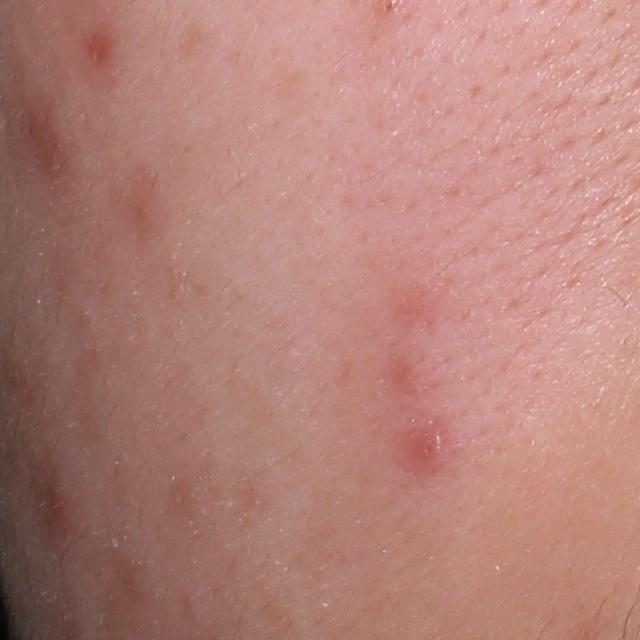papule: (401, 417, 457, 481), (44, 484, 68, 523)
